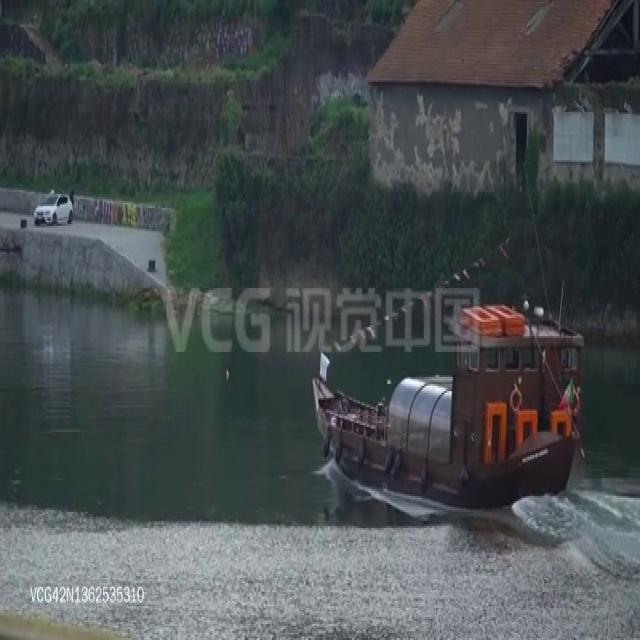fishing boat: (310, 306, 582, 508)
